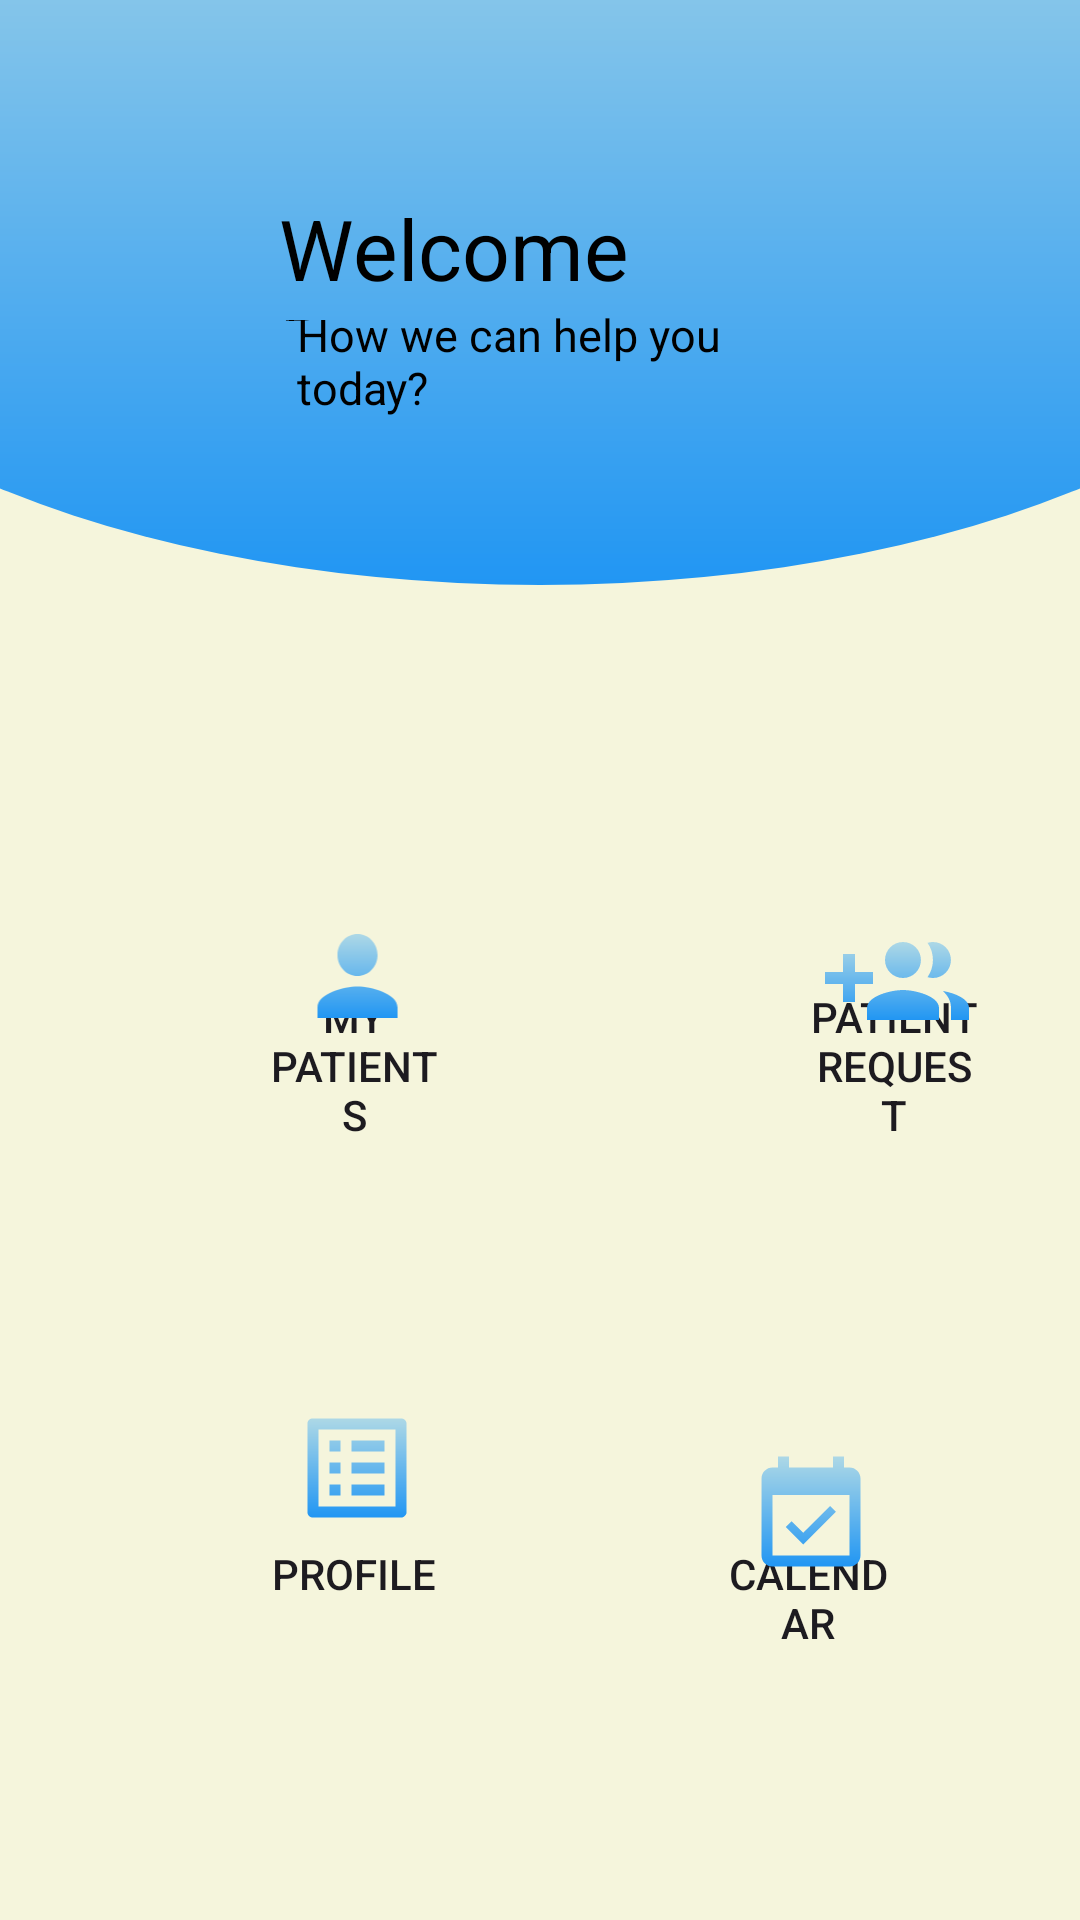

Named icons in this screenshot (1080x1920) and their centers, [x,y]:
person: [357,983]
